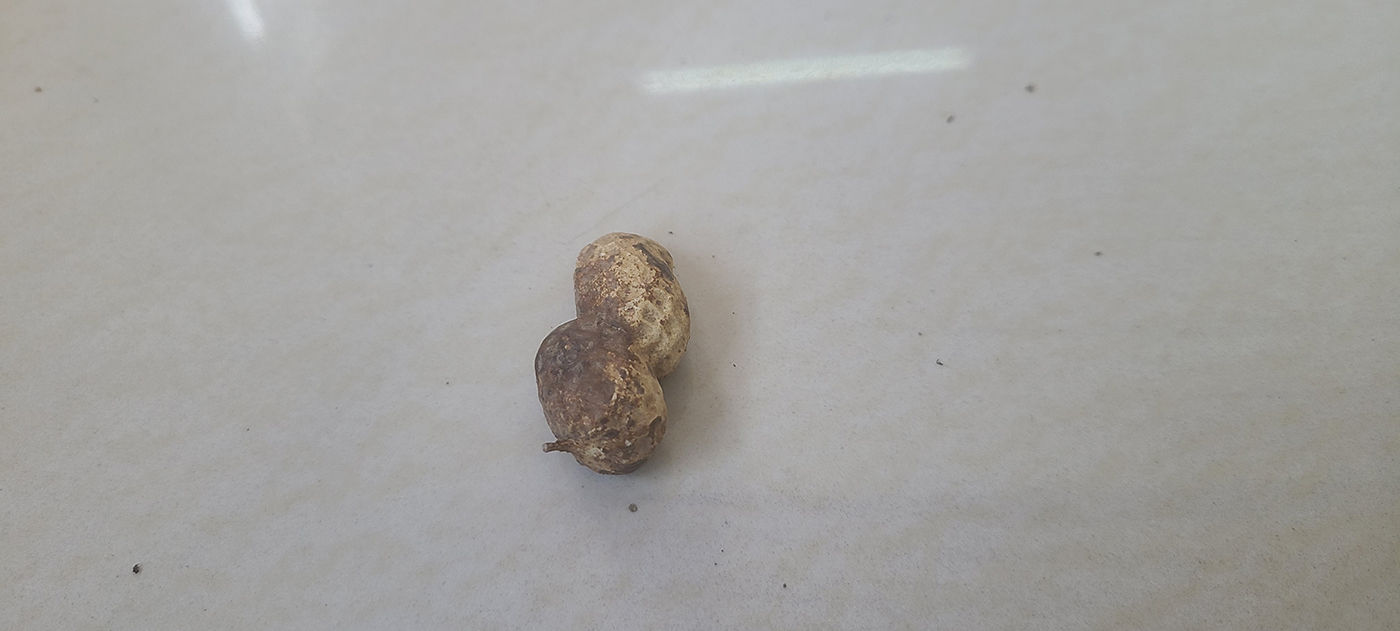l: (534, 232, 692, 477)
